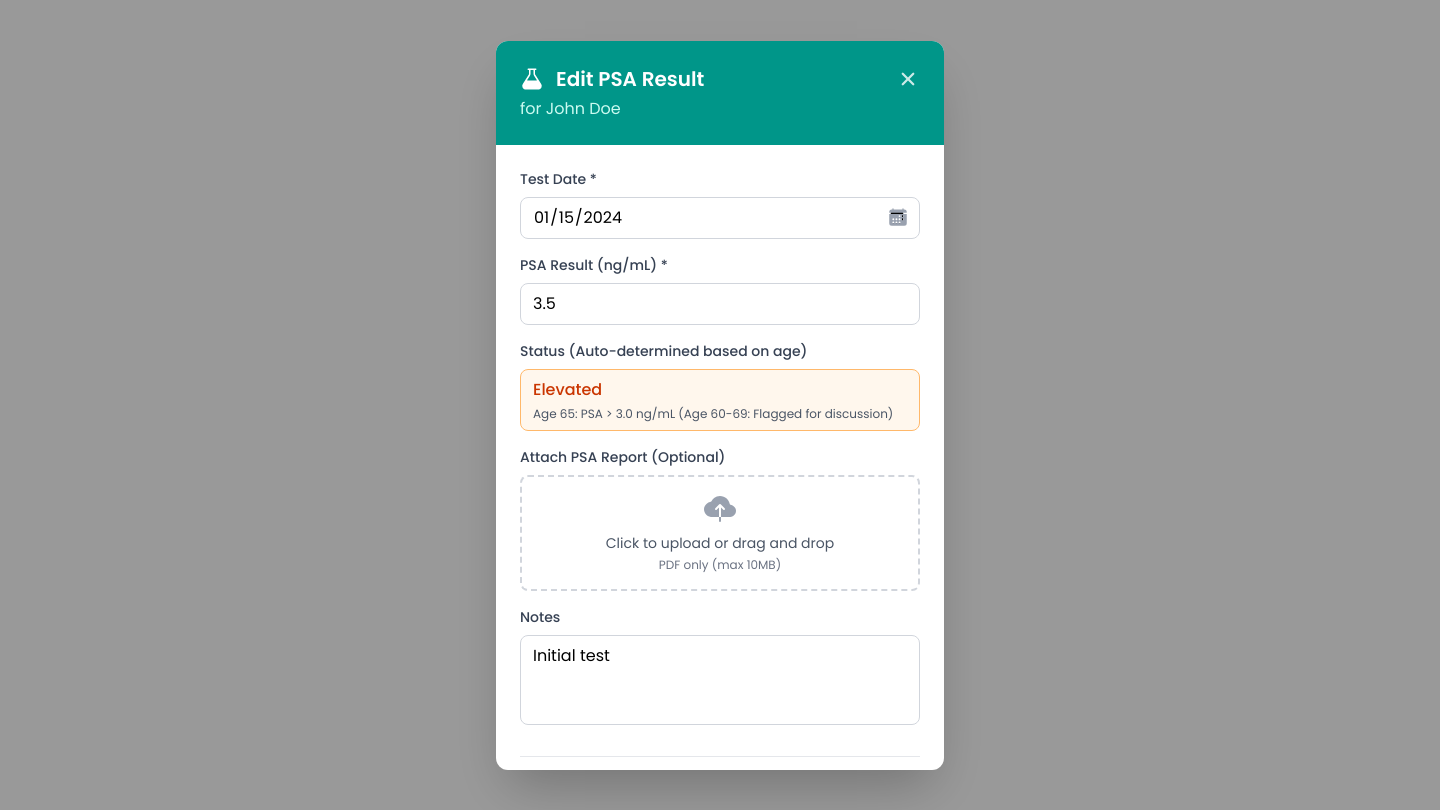
Test: EditPSAResultModal › should handle validation errors
This screenshot has width=1440, height=810.
Clear the number field labelled "PSA Result (ng/mL) *": (720, 304) [520,282,920,324]
(page scrolled)
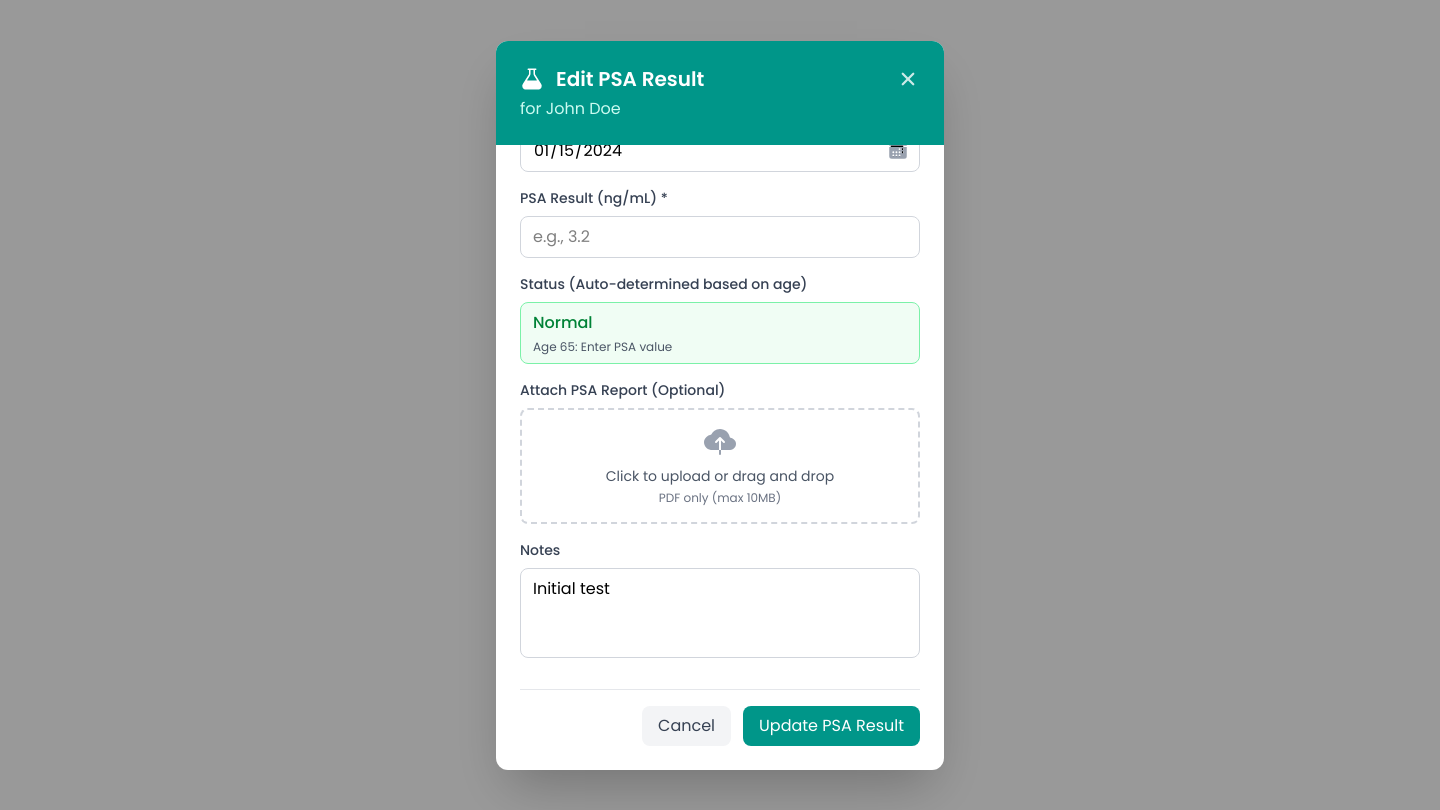
Click the button "Update PSA Result": (832, 726) [743,706,920,746]
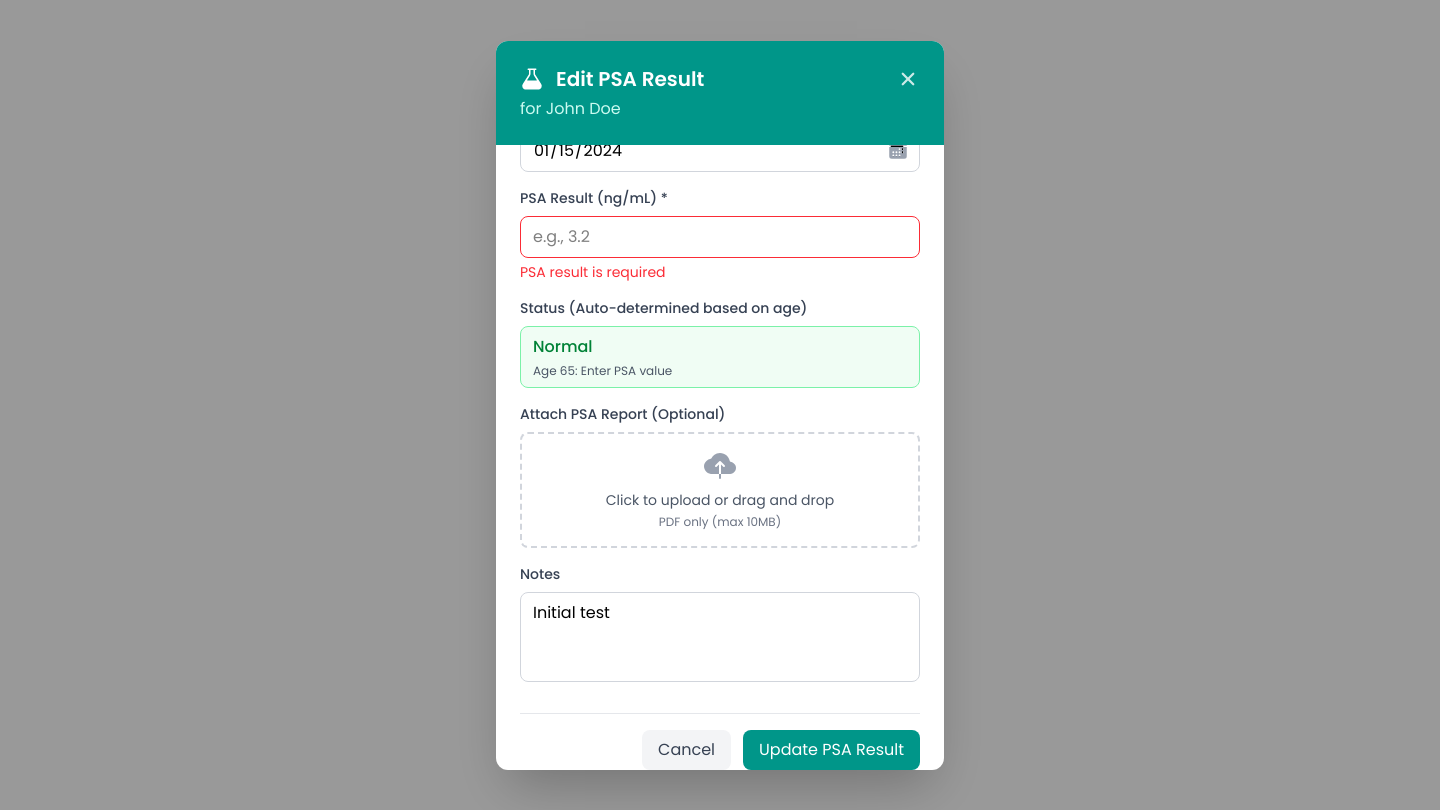
Now the text "PSA result is required" is shown, box [520,262,666,282]
